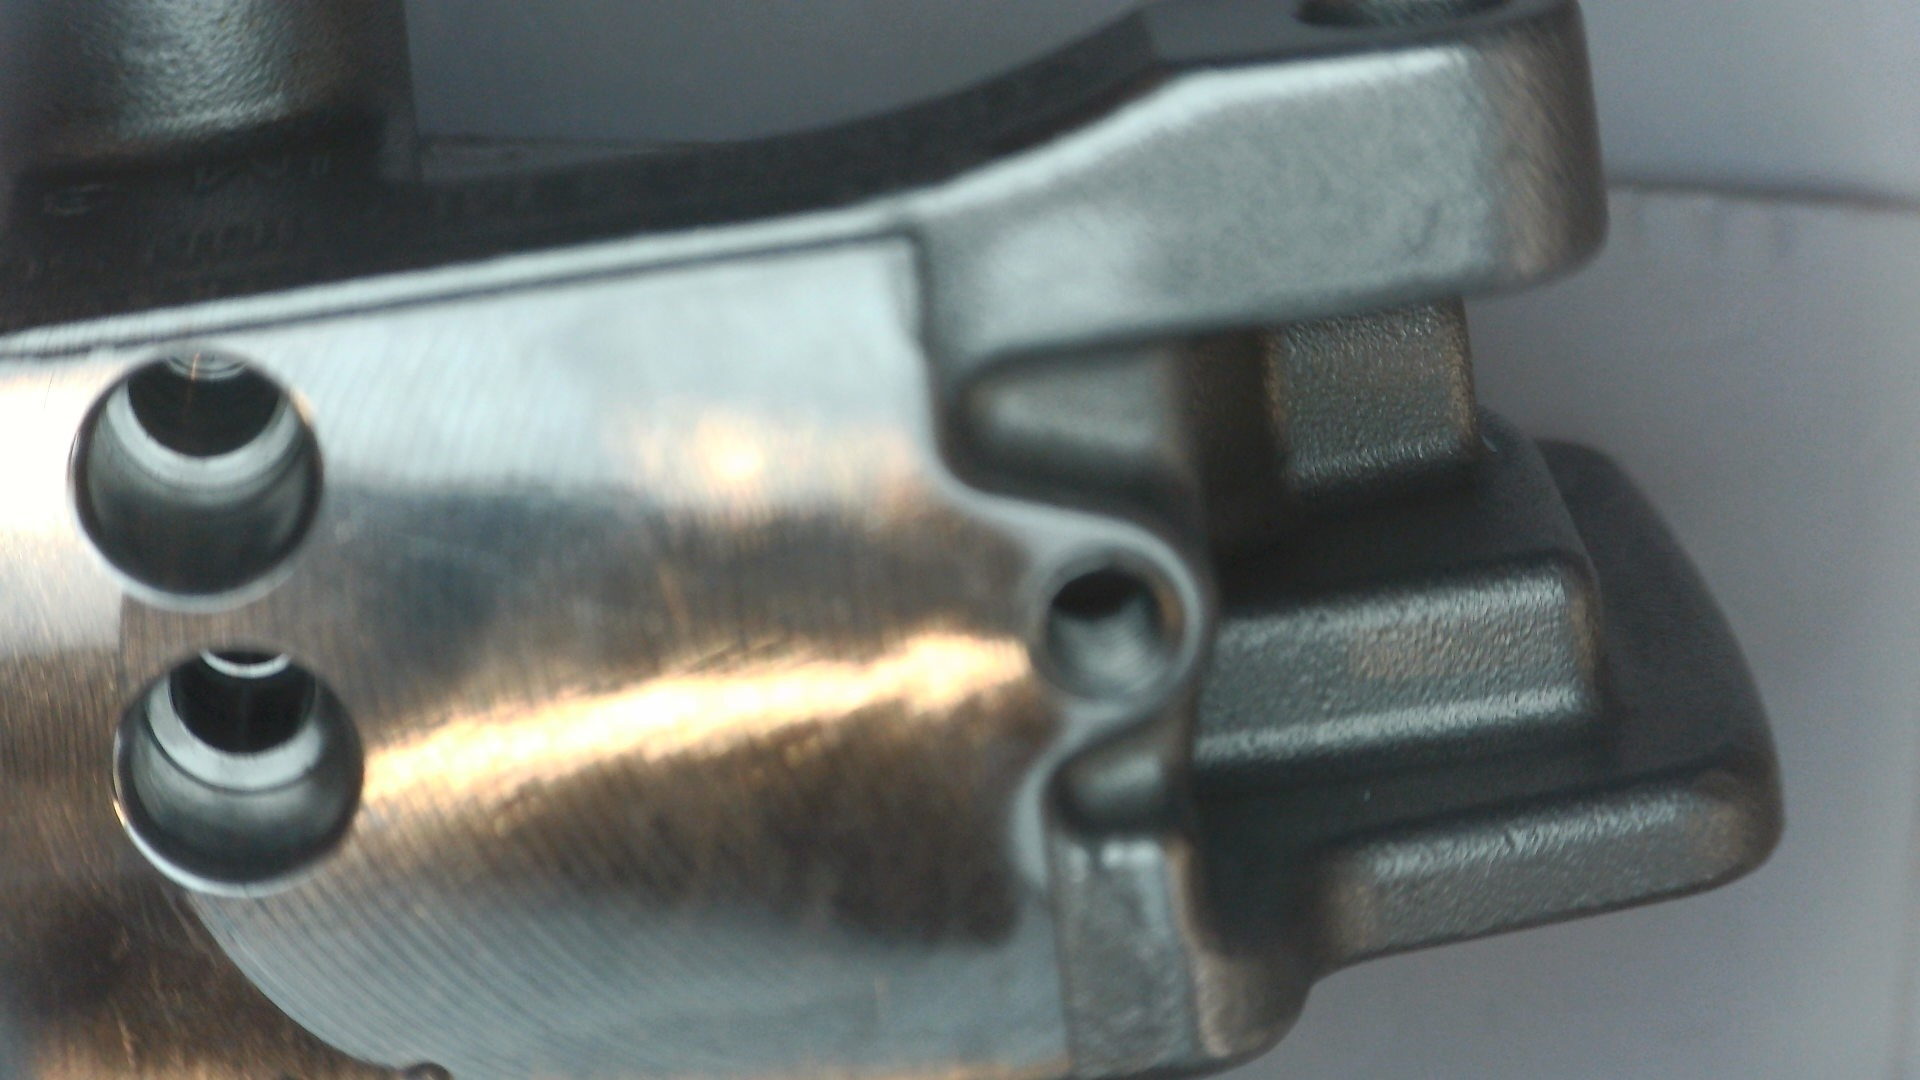thread_absence: (58, 340, 331, 616), (103, 640, 369, 903)
thread_presence: (1044, 564, 1168, 700)
